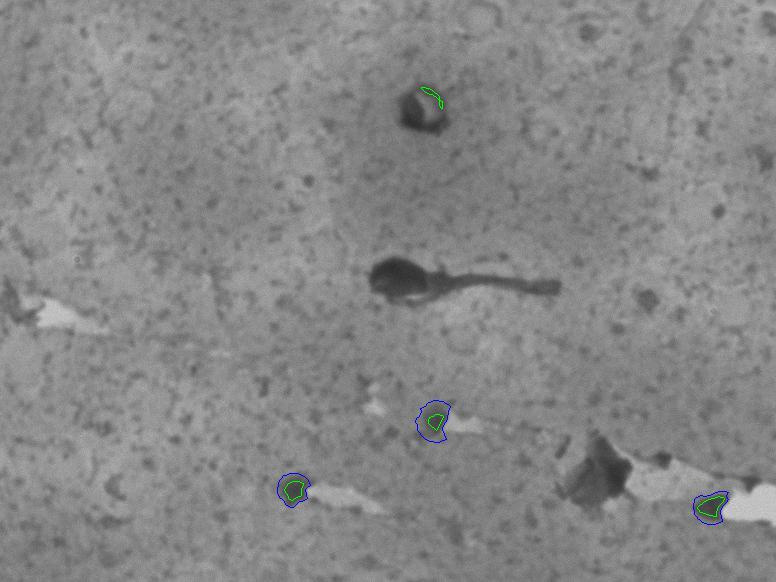Abnormal: (315, 213, 605, 343)
